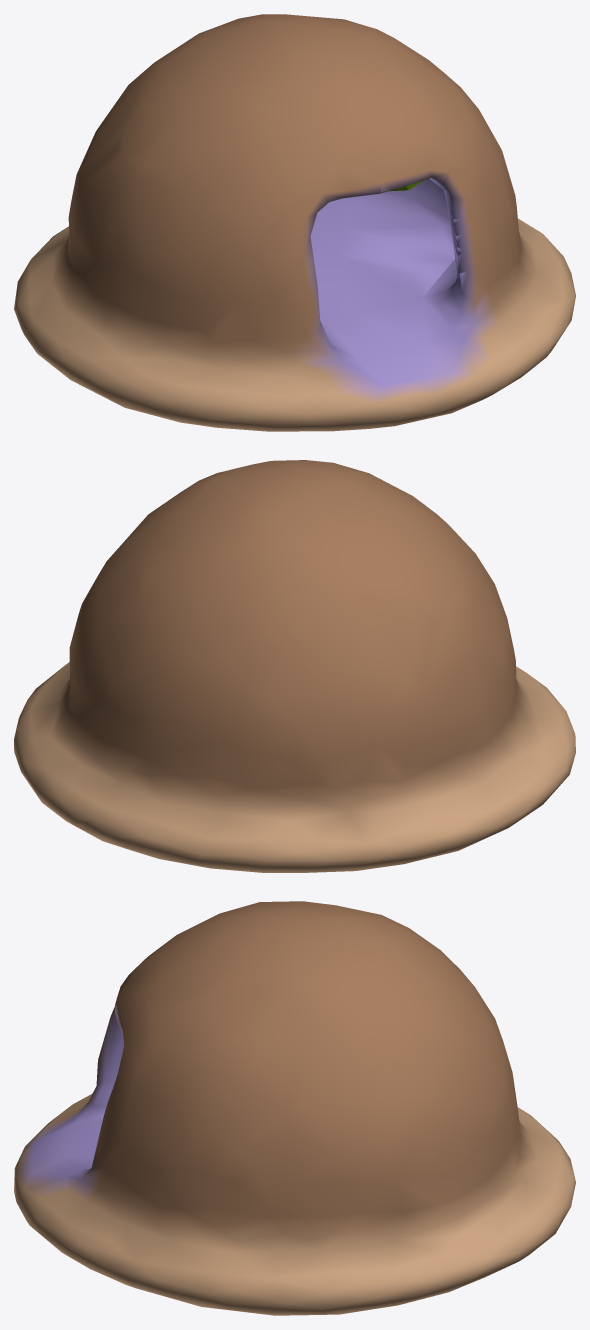
File: geodo.glb
3 views of the same model, one above another, from view 1: azimuth 30°, elevation 25°; view 2: azimuth 150°, elevation 25°; view 3: azimuth 270°, elevation 25° (orthographic).
Visible parts, largest first — view 1: Casca; view 2: Casca; view 3: Casca.
Part boxes in pixels (x1=…): Casca: x1=14, y1=14, x2=575, y2=431; Casca: x1=14, y1=460, x2=575, y2=872; Casca: x1=14, y1=901, x2=575, y2=1315.
Size of the model in its own units: 12.52 by 7.85 by 12.5.
